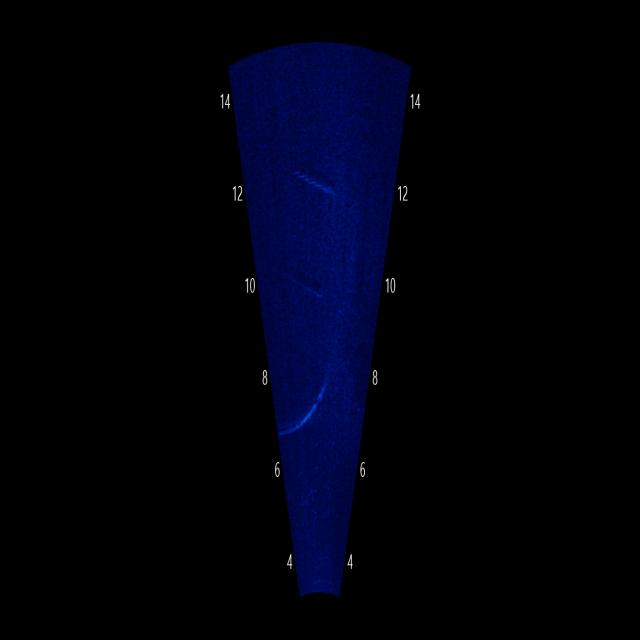square: (302, 156, 310, 168)
